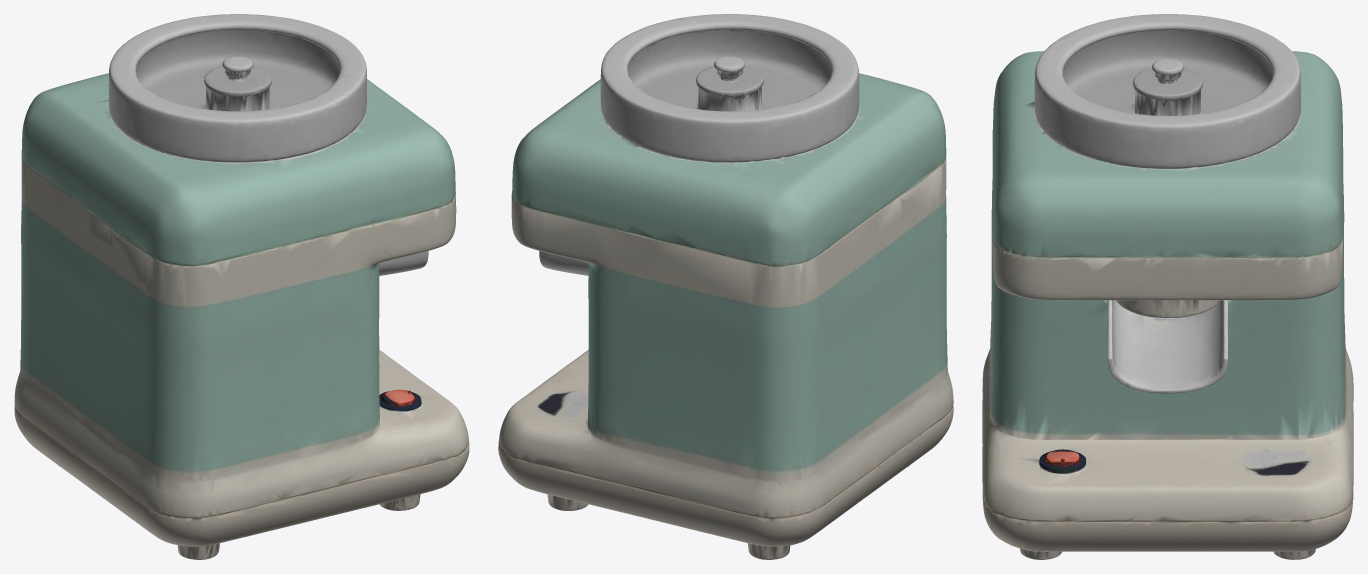
Rendered from KR_사물_s1_machine_bingsu_old.glb.
3 renders of one model, left to right at view 1: azimuth 30°, elevation 25°; view 2: azimuth 150°, elevation 25°; view 3: azimuth 270°, elevation 25°, orthographic. The views are drawn at different scales.
Parts seen in each view (by area): view 1: tripo_node_97bdf755-3c0d-4aca-b1b6-4c6ab8ad2364; view 2: tripo_node_97bdf755-3c0d-4aca-b1b6-4c6ab8ad2364; view 3: tripo_node_97bdf755-3c0d-4aca-b1b6-4c6ab8ad2364.
Part boxes in pixels (x1,y1,x2,y2): tripo_node_97bdf755-3c0d-4aca-b1b6-4c6ab8ad2364: (14,14,469,559); tripo_node_97bdf755-3c0d-4aca-b1b6-4c6ab8ad2364: (498,14,953,559); tripo_node_97bdf755-3c0d-4aca-b1b6-4c6ab8ad2364: (982,14,1353,559).
Bounding box in the file's own units: 0.7905 × 0.9999 × 0.7703.
Materials: 1 (1 with a texture image).
